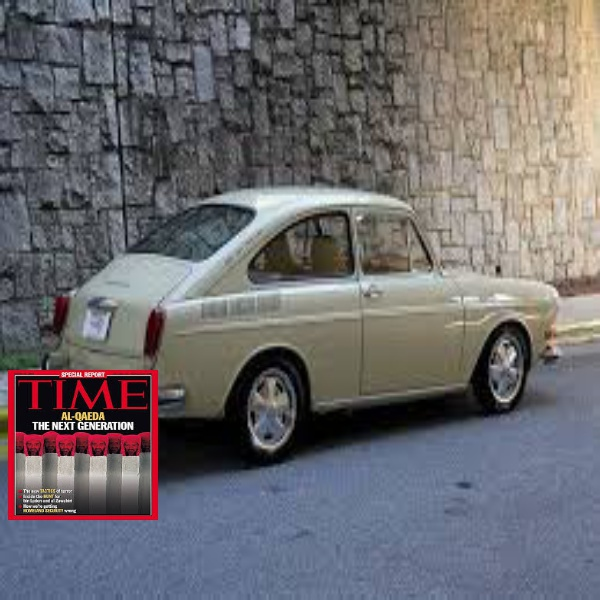time_cover: (5, 368, 161, 518)
